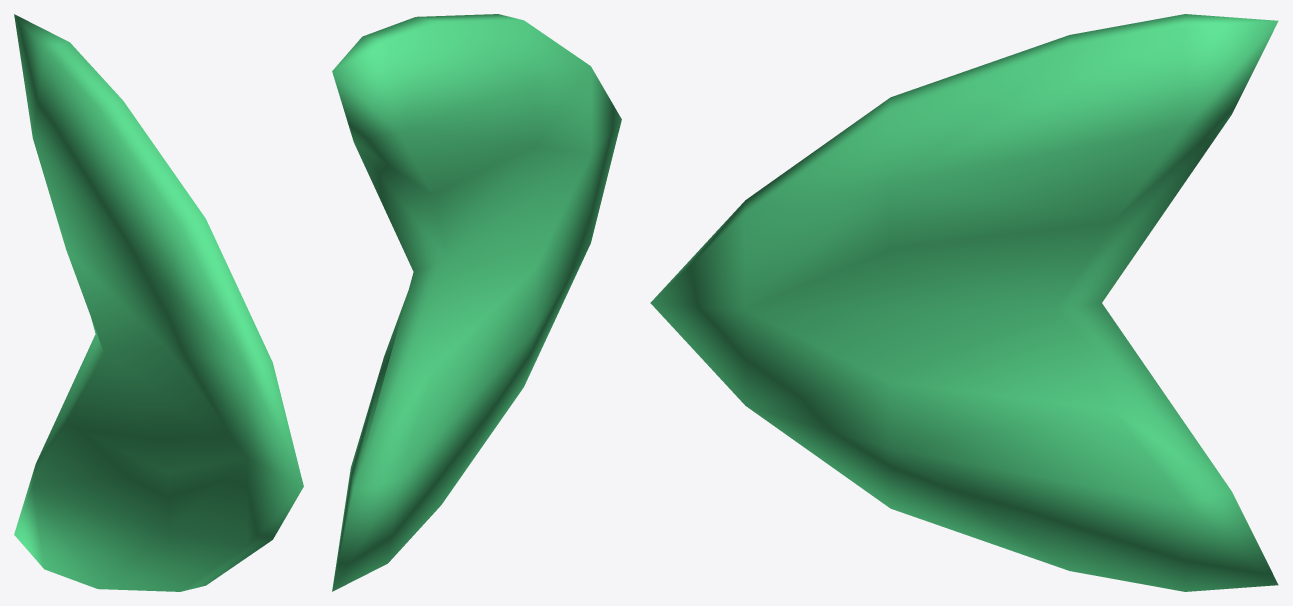
The model's file is caudal-fin.obj.
3 views of the same model, side by side, from view 1: azimuth 30°, elevation 25°; view 2: azimuth 150°, elevation 25°; view 3: azimuth 270°, elevation 25° (orthographic). The views are drawn at different scales.
Visible parts, largest first — view 1: Box001; view 2: Box001; view 3: Box001.
Boxes of the visible parts, left/top/right/bottom form: Box001: left=14, top=14, right=303, bottom=591; Box001: left=332, top=14, right=621, bottom=591; Box001: left=650, top=14, right=1278, bottom=591.
Size of the model in its own units: 0.7924 by 8.08 by 8.16.
